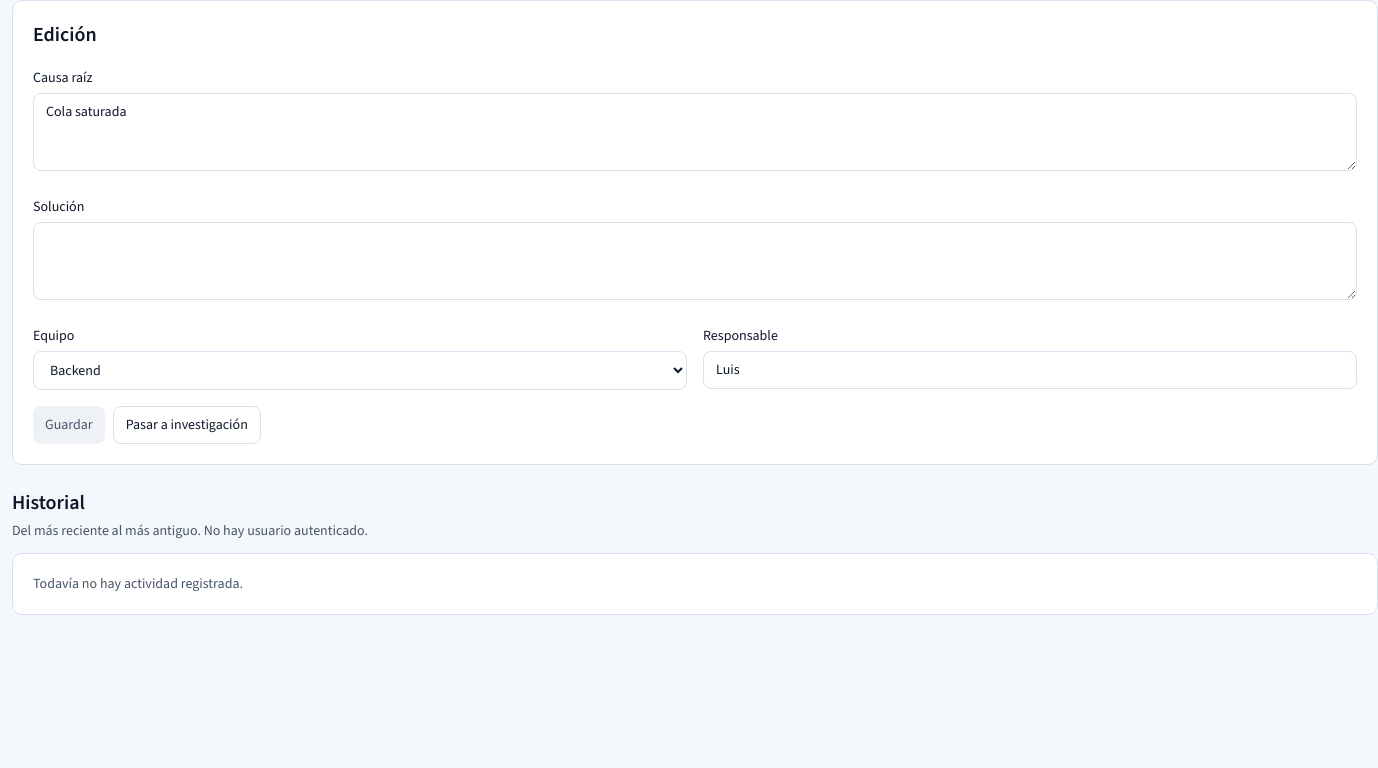
it: IncidentEditor › shows a non-409 API error
Type "Reintentar" into the text box labelled "Solución".
click(695, 261); type("Reintentar")  # box [33,222,1357,300]
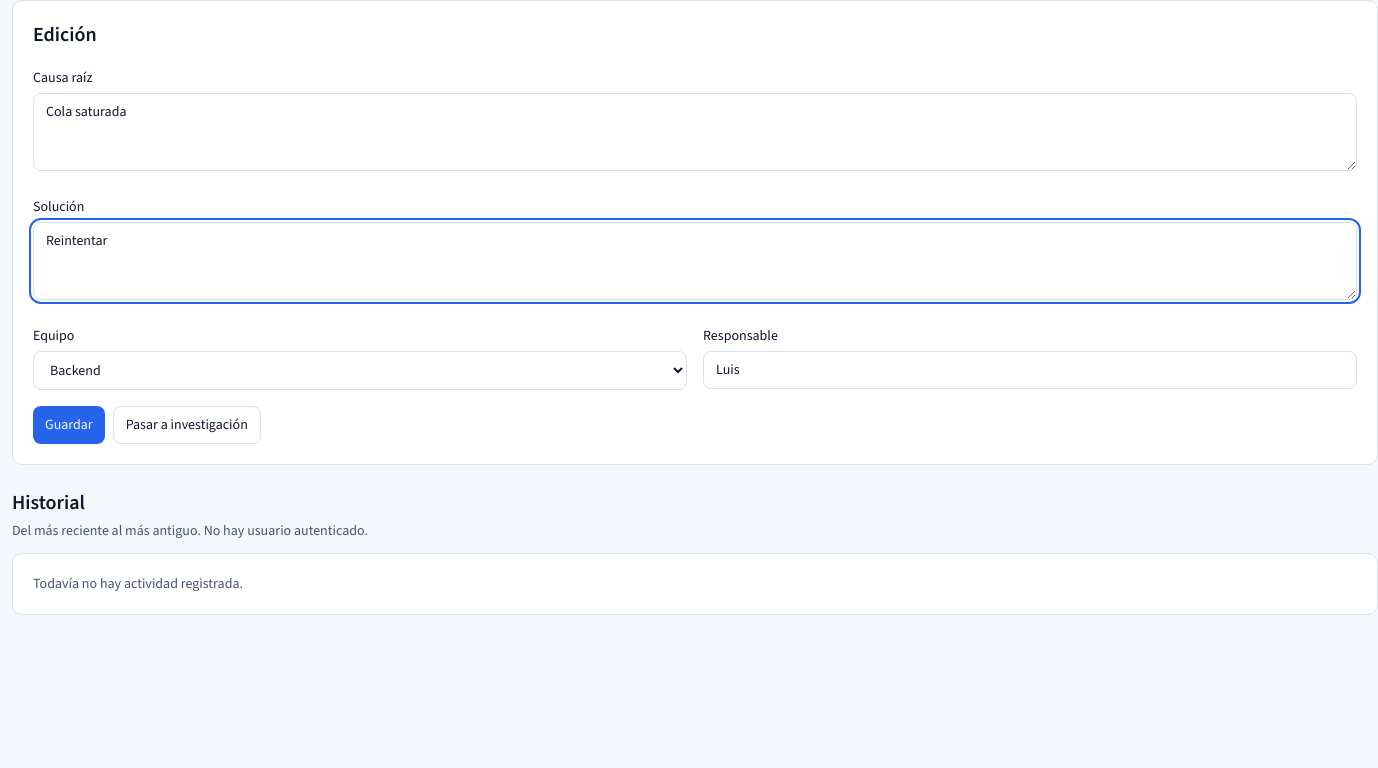
Click the button "Guardar".
click(69, 425)  # box [33,406,105,444]
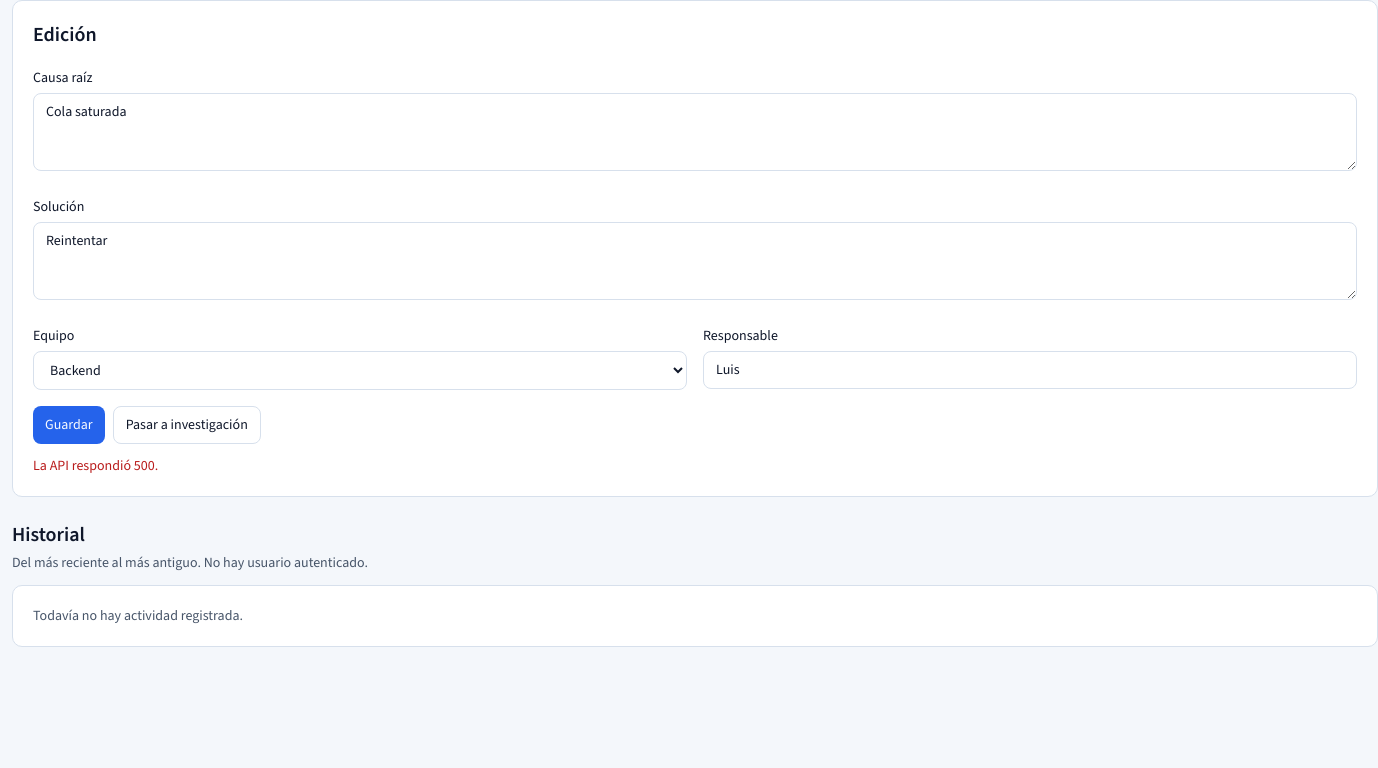
Expected: the text "La API respondió 500." is shown, [33,456,158,475]
